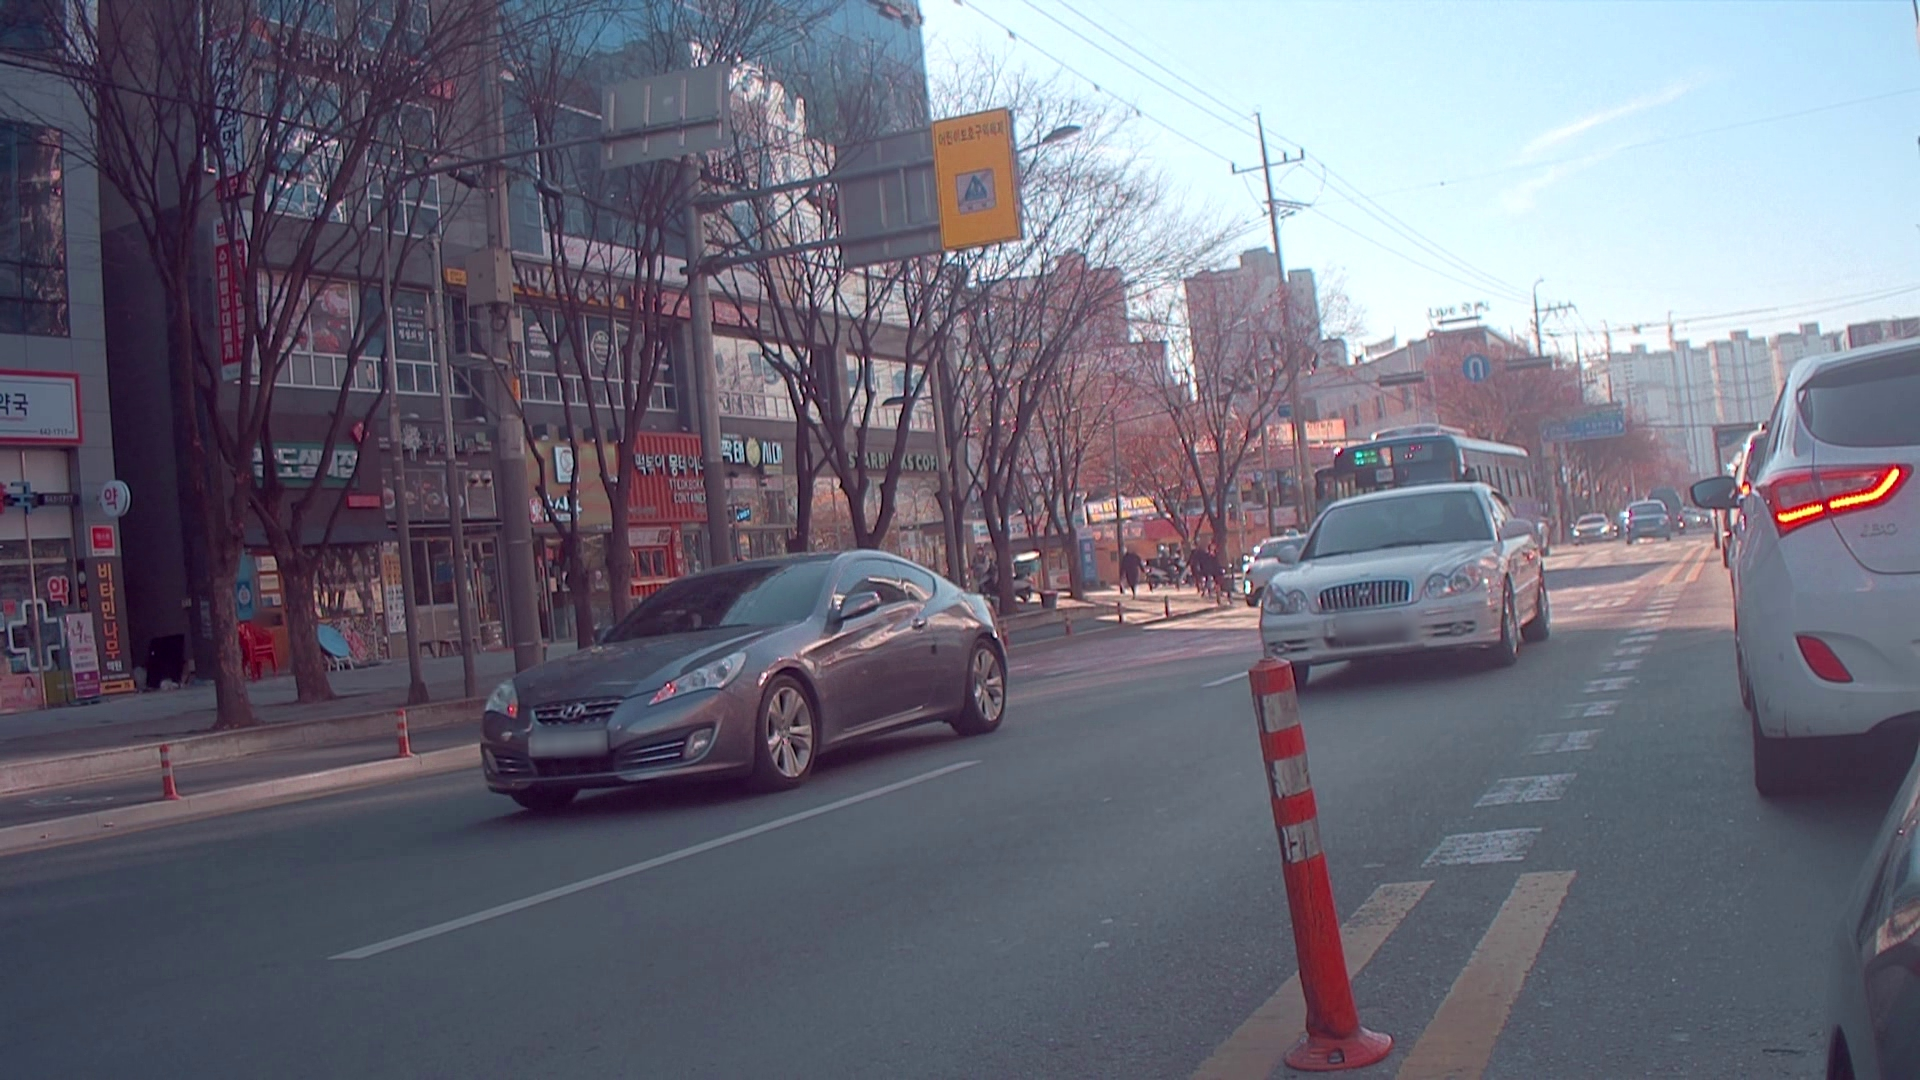trafficSignCircle: (1462, 353, 1491, 386)
trafficSignRTG: (827, 107, 1026, 262)
